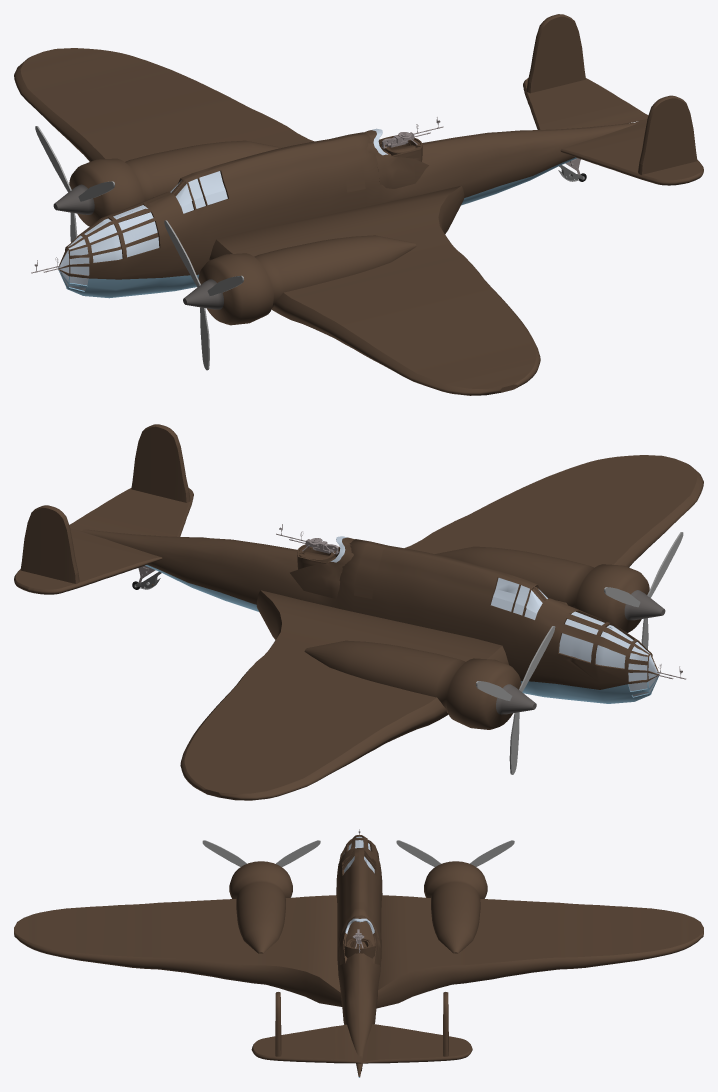
File: Los.gltf
The picture shows the model from 3 angles, top to bottom: view 1: azimuth 30°, elevation 25°; view 2: azimuth 150°, elevation 25°; view 3: azimuth 270°, elevation 25°; orthographic projection. The views are drawn at different scales.
Visible parts, largest first — view 1: kadlub; view 2: kadlub; view 3: kadlub.
Part boxes in pixels (bbox=[...]): kadlub: bbox=[14, 14, 703, 395]; kadlub: bbox=[14, 424, 703, 800]; kadlub: bbox=[14, 829, 703, 1077].
Bounding box in the file's own units: 4.06 × 0.8818 × 4.92.
